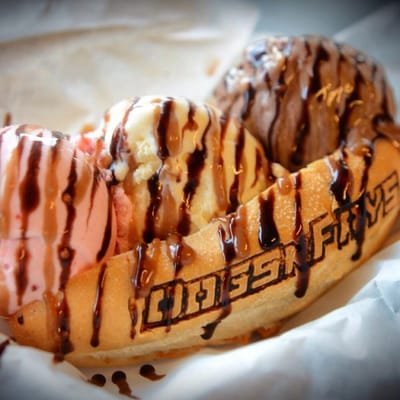sushi: (8, 30, 400, 371)
